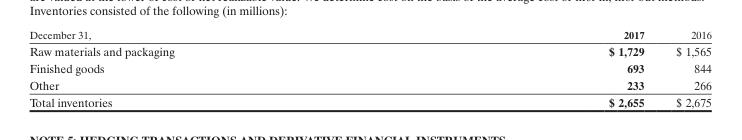table: (28, 28, 710, 109)
table column: (28, 28, 390, 109), (390, 28, 659, 109), (659, 28, 710, 109)
table column header: (28, 28, 710, 42)
table row: (28, 42, 710, 59), (28, 59, 710, 76), (28, 76, 710, 93), (28, 93, 710, 109), (28, 28, 710, 42)
